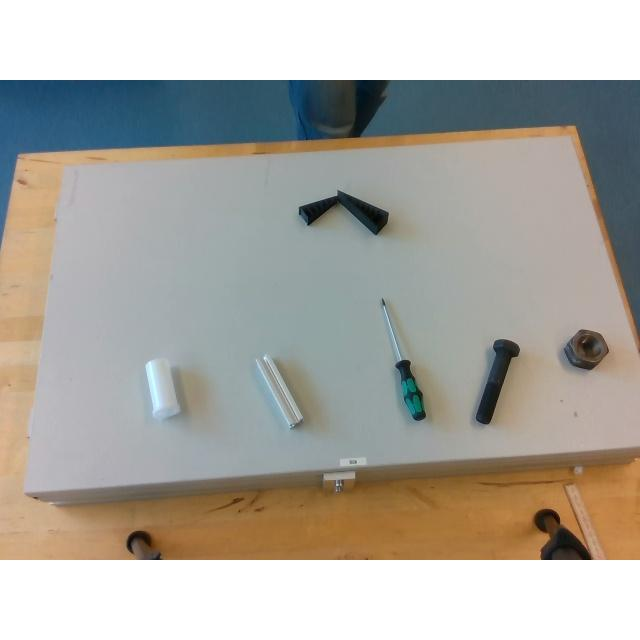F20_20_G: (256, 354, 304, 426)
M20_100: (474, 339, 518, 423)
M30: (564, 329, 608, 367)
Screwdriver: (380, 299, 424, 417)
Spacer: (145, 359, 179, 416)
